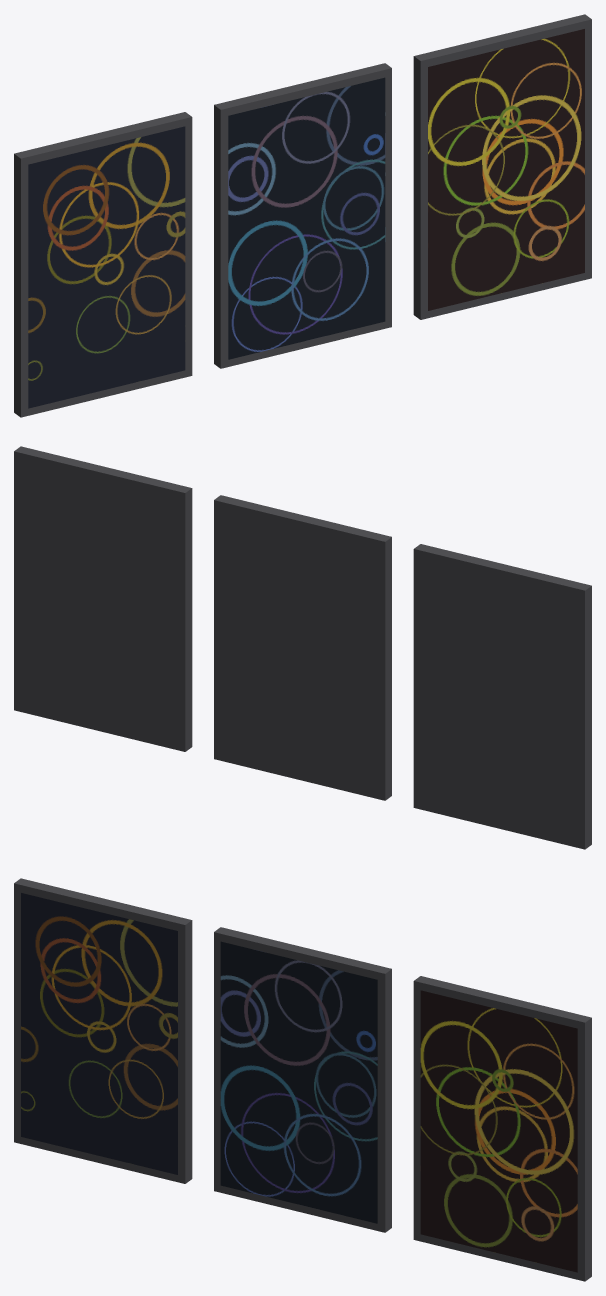
File: wall_posters.glb
3 views of the same model, one above another, from view 1: azimuth 30°, elevation 25°; view 2: azimuth 150°, elevation 25°; view 3: azimuth 330°, elevation 25° (orthographic).
Parts seen in each view (by area): view 1: poster_art_0, poster_art_1, poster_art_2, poster_frame_0, poster_frame_2, poster_frame_1; view 2: poster_frame_0, poster_frame_2, poster_frame_1; view 3: poster_art_1, poster_art_2, poster_art_0, poster_frame_2, poster_frame_0, poster_frame_1.
Boxes of the visible parts, left/top/right/bottom form: poster_art_0: left=28, top=126, right=185, bottom=408; poster_art_1: left=228, top=77, right=385, bottom=359; poster_art_2: left=428, top=29, right=584, bottom=310; poster_frame_0: left=14, top=112, right=192, bottom=417; poster_frame_2: left=413, top=14, right=591, bottom=319; poster_frame_1: left=214, top=63, right=391, bottom=368; poster_frame_0: left=413, top=544, right=591, bottom=849; poster_frame_2: left=14, top=446, right=192, bottom=751; poster_frame_1: left=214, top=495, right=391, bottom=800; poster_art_1: left=220, top=941, right=377, bottom=1223; poster_art_2: left=420, top=990, right=577, bottom=1272; poster_art_0: left=21, top=893, right=177, bottom=1174; poster_frame_2: left=413, top=976, right=591, bottom=1281; poster_frame_0: left=14, top=878, right=192, bottom=1183; poster_frame_1: left=214, top=927, right=391, bottom=1232.
Size of the model in its own units: 1.2 by 0.52 by 0.026.
4 materials, 3 textured.
